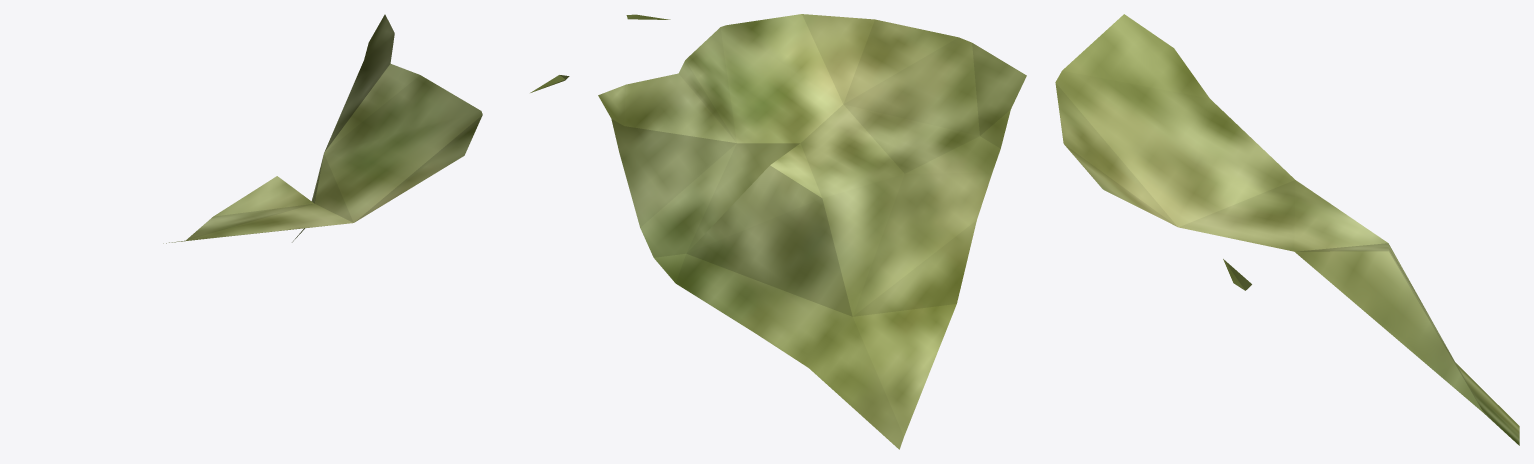
3 renders of one model, left to right at view 1: azimuth 30°, elevation 25°; view 2: azimuth 150°, elevation 25°; view 3: azimuth 270°, elevation 25°, orthographic. The views are drawn at different scales.
Size of the model in its own units: 1.06 by 0.7879 by 0.7601.
Materials: 1 (1 with a texture image).
